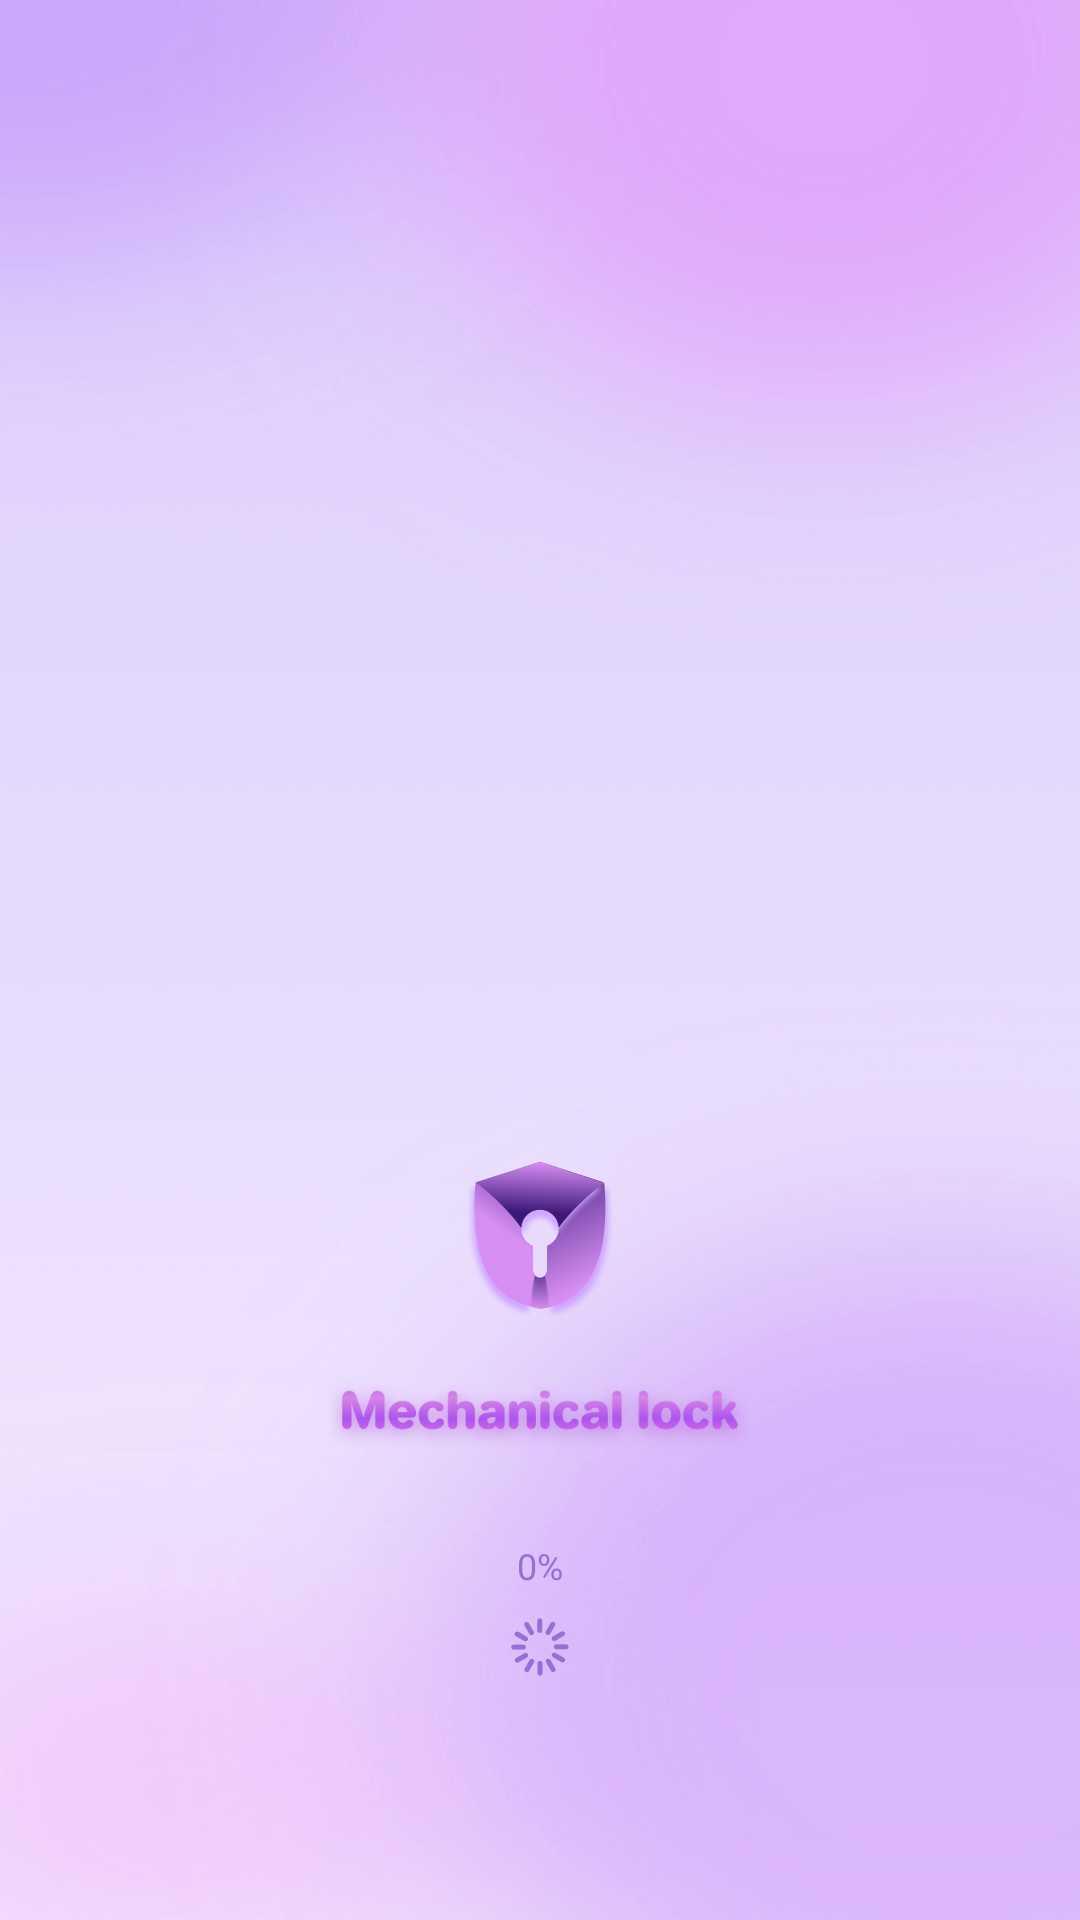

Point at icon controls on the screen. Image size 1080 x 1920, points as (x,y).
progress: (540,1647)
